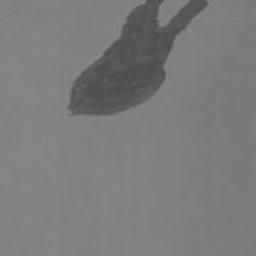Oil spot: (68, 0, 209, 116)
